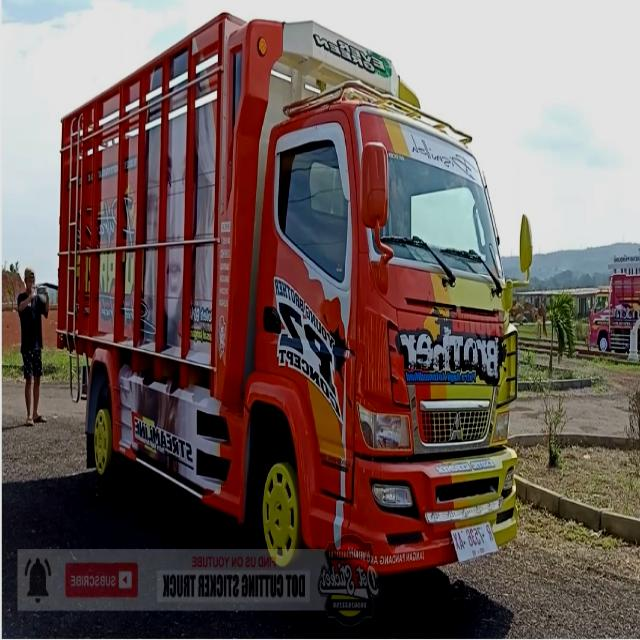truck: (58, 9, 534, 574)
